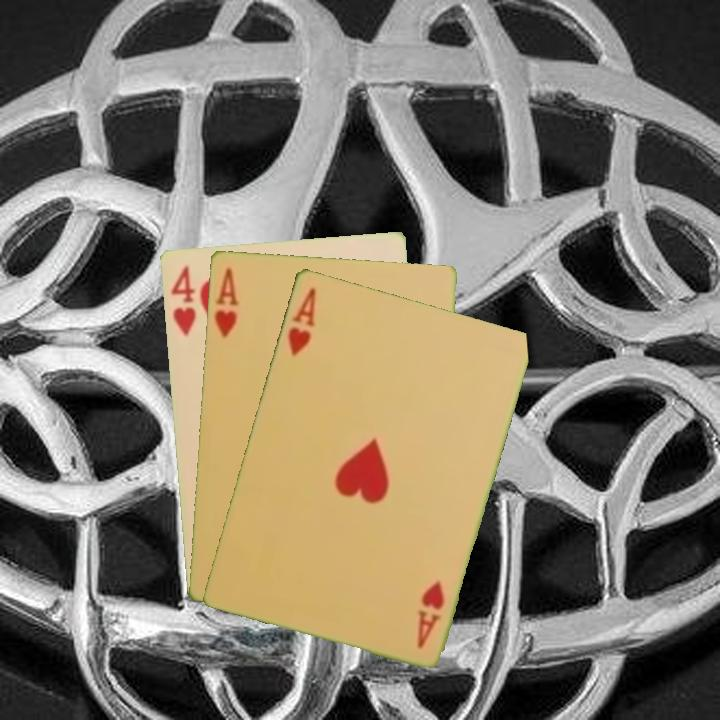4h: (167, 261, 199, 338)
Ah: (283, 283, 319, 359), (413, 576, 447, 651), (211, 263, 241, 340)
